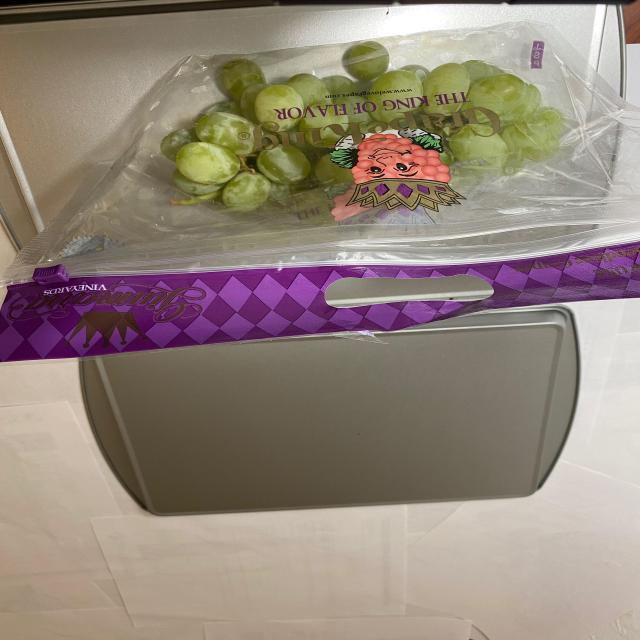grapes: (140, 44, 591, 221)
